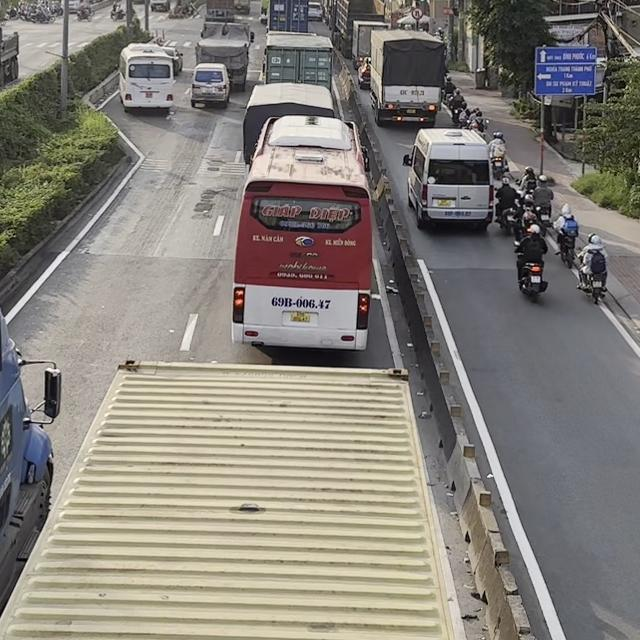bus: (230, 115, 373, 351), (117, 42, 175, 115)
car: (402, 127, 494, 230), (190, 62, 231, 108)
motorcycle: (512, 242, 548, 303), (575, 248, 607, 304), (497, 205, 518, 235), (536, 202, 552, 236), (490, 154, 508, 180)
truck: (0, 358, 470, 639), (0, 296, 61, 639), (368, 28, 447, 127), (261, 30, 334, 91), (194, 21, 255, 91), (328, 0, 386, 58), (352, 20, 388, 70)
